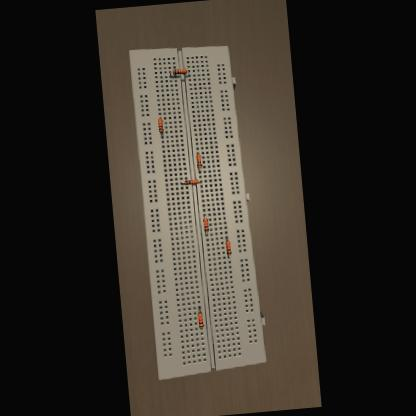breadboard: (129, 40, 269, 380)
resistor: (226, 240, 232, 255), (172, 68, 186, 74), (197, 311, 202, 327), (157, 118, 162, 132), (184, 179, 198, 184), (196, 152, 201, 166), (203, 218, 208, 232)
wire: (169, 70, 173, 76), (160, 131, 162, 137), (198, 306, 200, 312), (186, 71, 188, 76), (226, 236, 228, 240), (181, 181, 184, 183), (198, 180, 200, 181), (204, 214, 205, 216), (228, 254, 229, 256), (160, 116, 160, 118)
